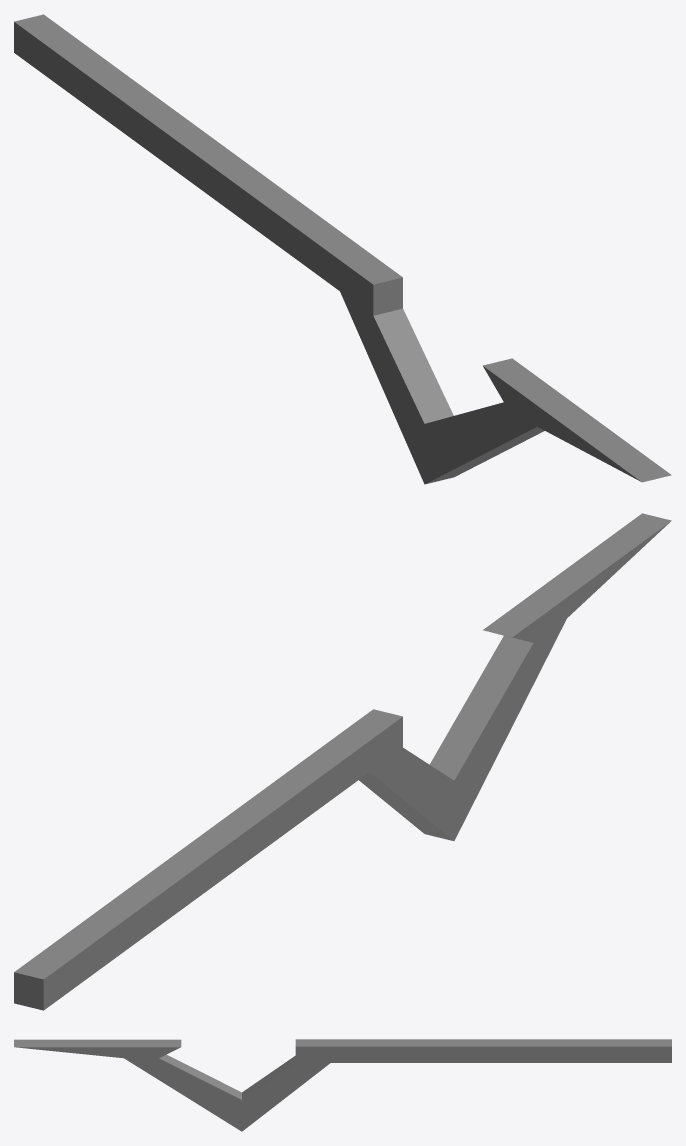
File: Croch.fbx
3 views of the same model, one above another, from view 1: azimuth 30°, elevation 25°; view 2: azimuth 150°, elevation 25°; view 3: azimuth 270°, elevation 25° (orthographic). The views are drawn at different scales.
Visible parts, largest first — view 1: Cube.001; view 2: Cube.001; view 3: Cube.001.
Boxes of the visible parts, x1,y1,x2,y2 form: Cube.001: (14, 14, 671, 484); Cube.001: (14, 513, 671, 1010); Cube.001: (14, 1039, 671, 1131).
Bounding box in the file's own units: 13.5 × 70.45 × 494.
Materials: 1 (1 with a texture image).
